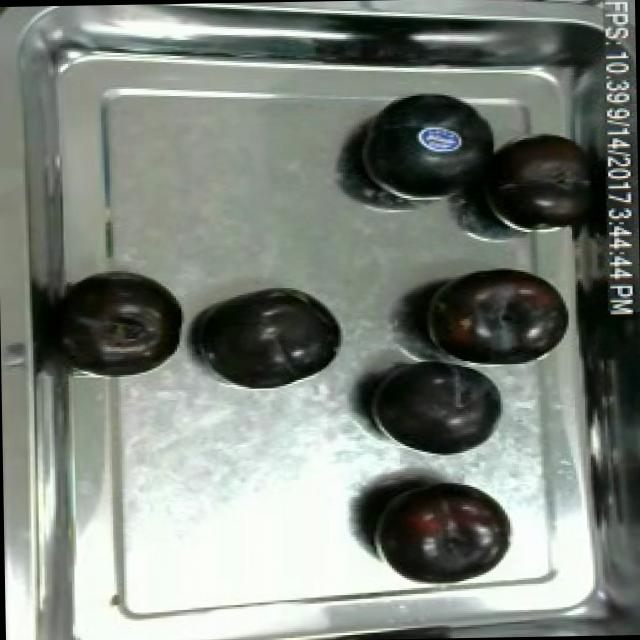Fruit: (348, 82, 512, 208), (356, 346, 514, 466), (358, 468, 516, 586), (414, 256, 576, 370), (196, 280, 352, 394), (471, 121, 606, 239), (73, 268, 187, 372)
